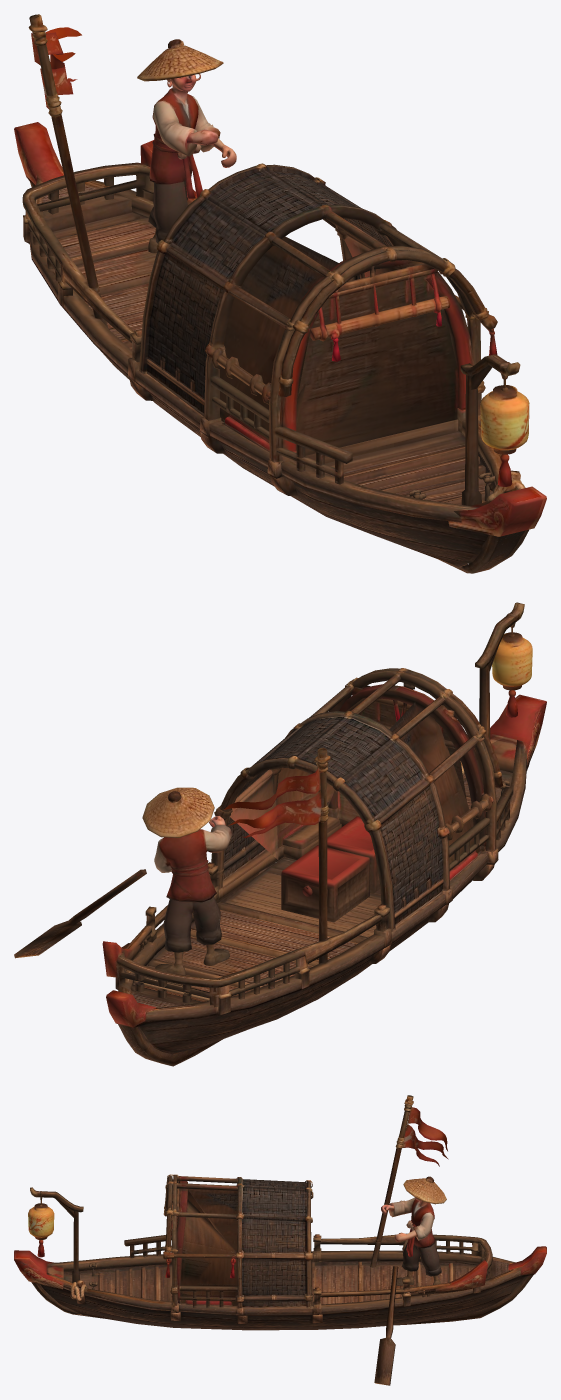
File: boat_claude.glb
The picture shows the model from 3 angles, top to bottom: view 1: azimuth 30°, elevation 25°; view 2: azimuth 150°, elevation 25°; view 3: azimuth 270°, elevation 25°; orthographic projection. The views are drawn at different scales.
Visible parts, largest first — view 1: tripo_node_f276a20f-0901-4000-865b-8ced58e15c16; view 2: tripo_node_f276a20f-0901-4000-865b-8ced58e15c16; view 3: tripo_node_f276a20f-0901-4000-865b-8ced58e15c16.
Boxes of the visible parts, <box> form: tripo_node_f276a20f-0901-4000-865b-8ced58e15c16: <box>14,14,546,573</box>; tripo_node_f276a20f-0901-4000-865b-8ced58e15c16: <box>14,602,546,1066</box>; tripo_node_f276a20f-0901-4000-865b-8ced58e15c16: <box>14,1095,546,1385</box>.
Bounding box in the file's own units: 0.4546 × 0.4116 × 0.9995.
Materials: 1 (1 with a texture image).
